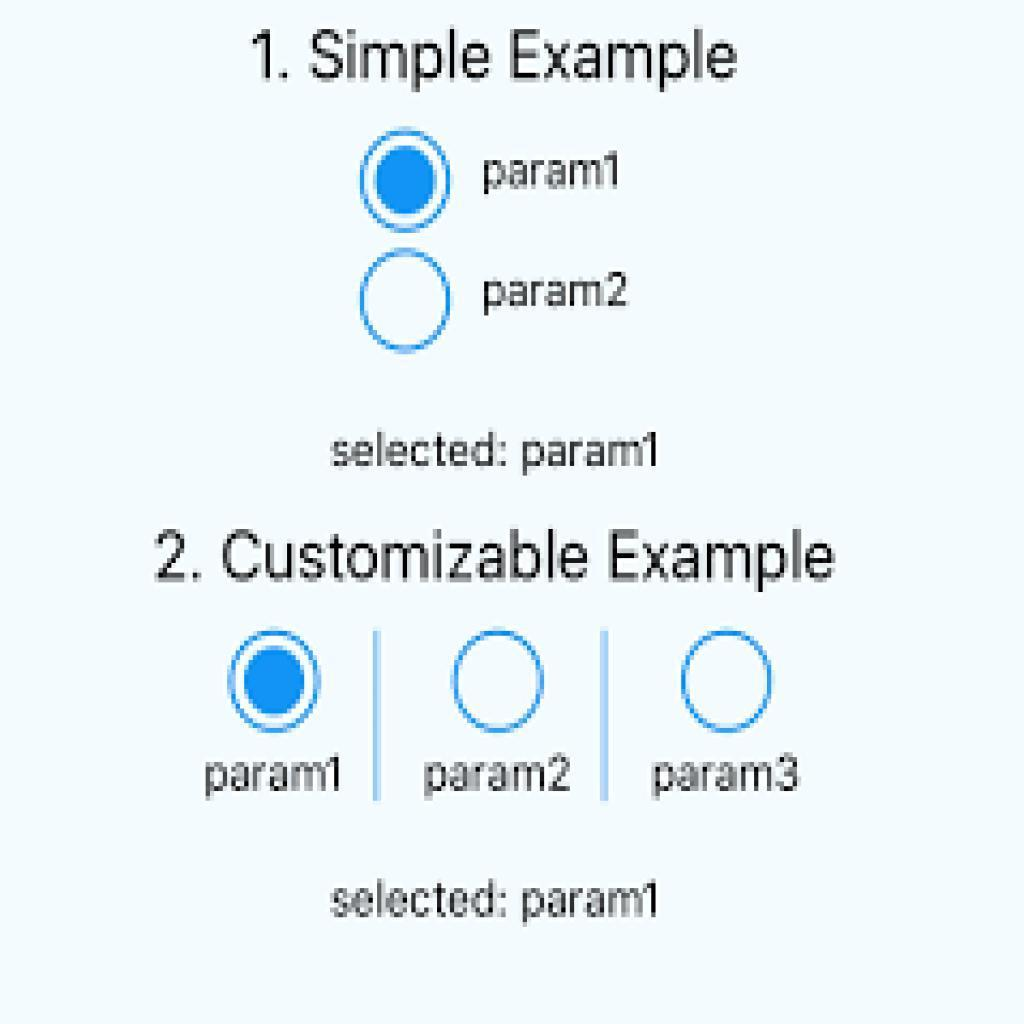label: (647, 748, 805, 805), (482, 145, 627, 202), (475, 268, 631, 319), (418, 752, 576, 801), (201, 752, 346, 801)
radio: (355, 244, 457, 355), (357, 123, 456, 235), (681, 625, 776, 736), (228, 628, 323, 736), (452, 628, 546, 735)
